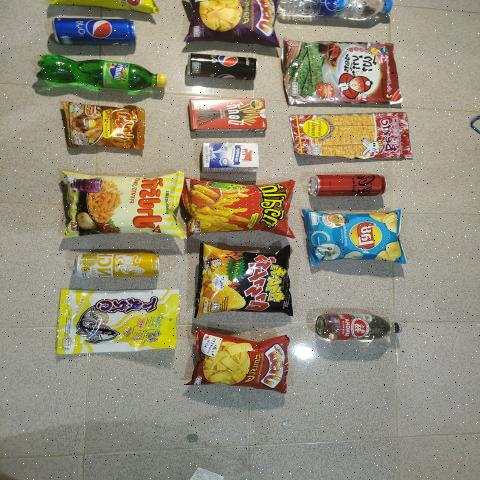bento_red: (292, 110, 408, 160)
coke_red: (304, 174, 390, 200)
fanta_green: (28, 58, 170, 86)
karamujo: (200, 252, 292, 310)
lay_blue: (312, 209, 402, 266)
mama: (54, 108, 139, 156)
paprika: (69, 175, 176, 236)
party_purple: (182, 0, 272, 40)
party_red: (196, 336, 298, 384)
pepsi_black: (185, 53, 257, 79)
pepsi_blue: (46, 14, 141, 47)
pokki: (187, 98, 266, 136)
singha_soda: (312, 308, 408, 346)
singha_yellow: (71, 247, 165, 278)
taokaenoi: (283, 44, 395, 98)
taro_yellow: (64, 292, 175, 351)
thai_denmark: (205, 144, 260, 174)
twisco: (192, 182, 294, 240)
